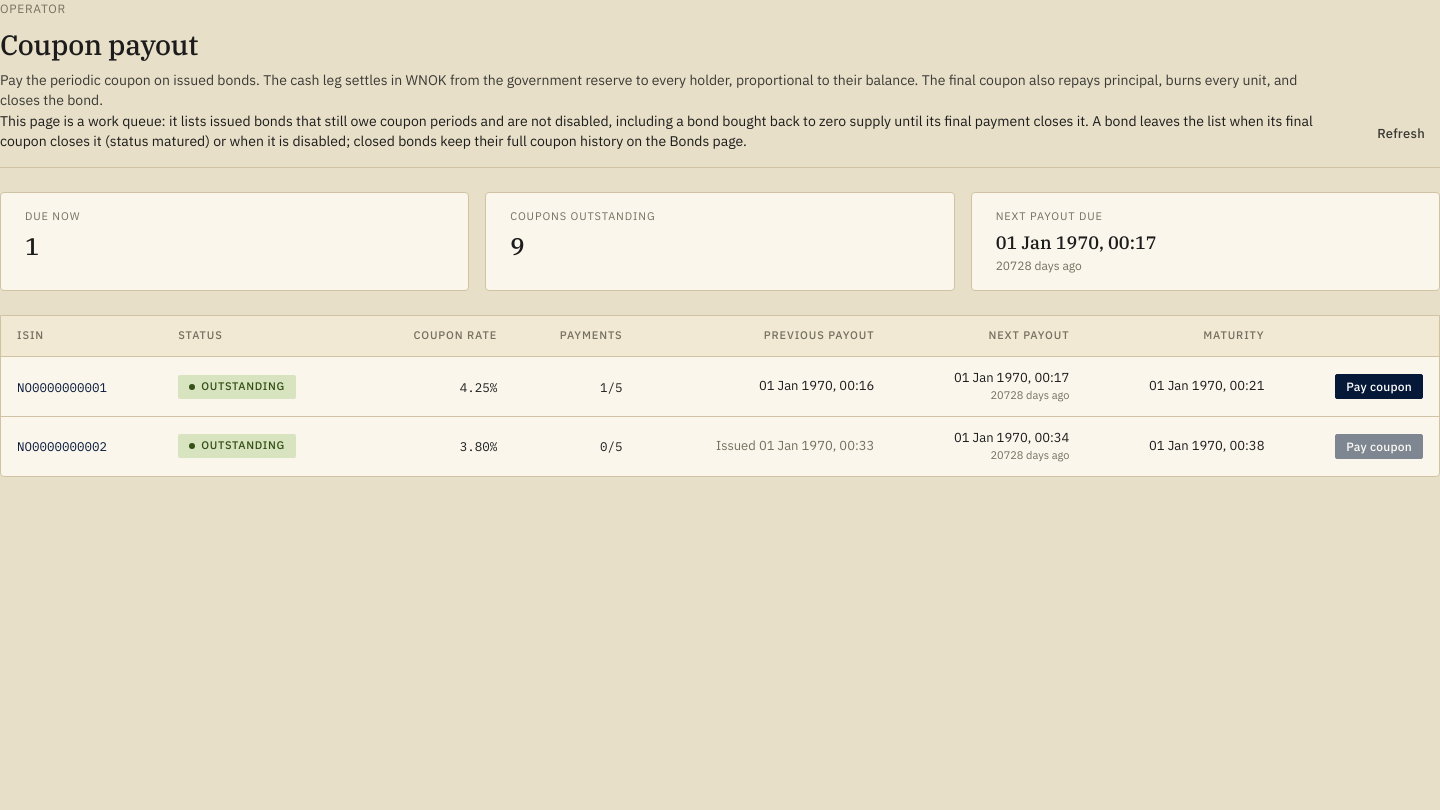
Scenario: CouponPayoutPage › keeps the modal open and surfaces the error when the payment fails
Expected: the link "NO0000000001" is shown, [17,379,107,395]
Click the button "Pay coupon" in the row of "NO0000000001" at {"x": 1379, "y": 387}, box [1335,374,1423,399]
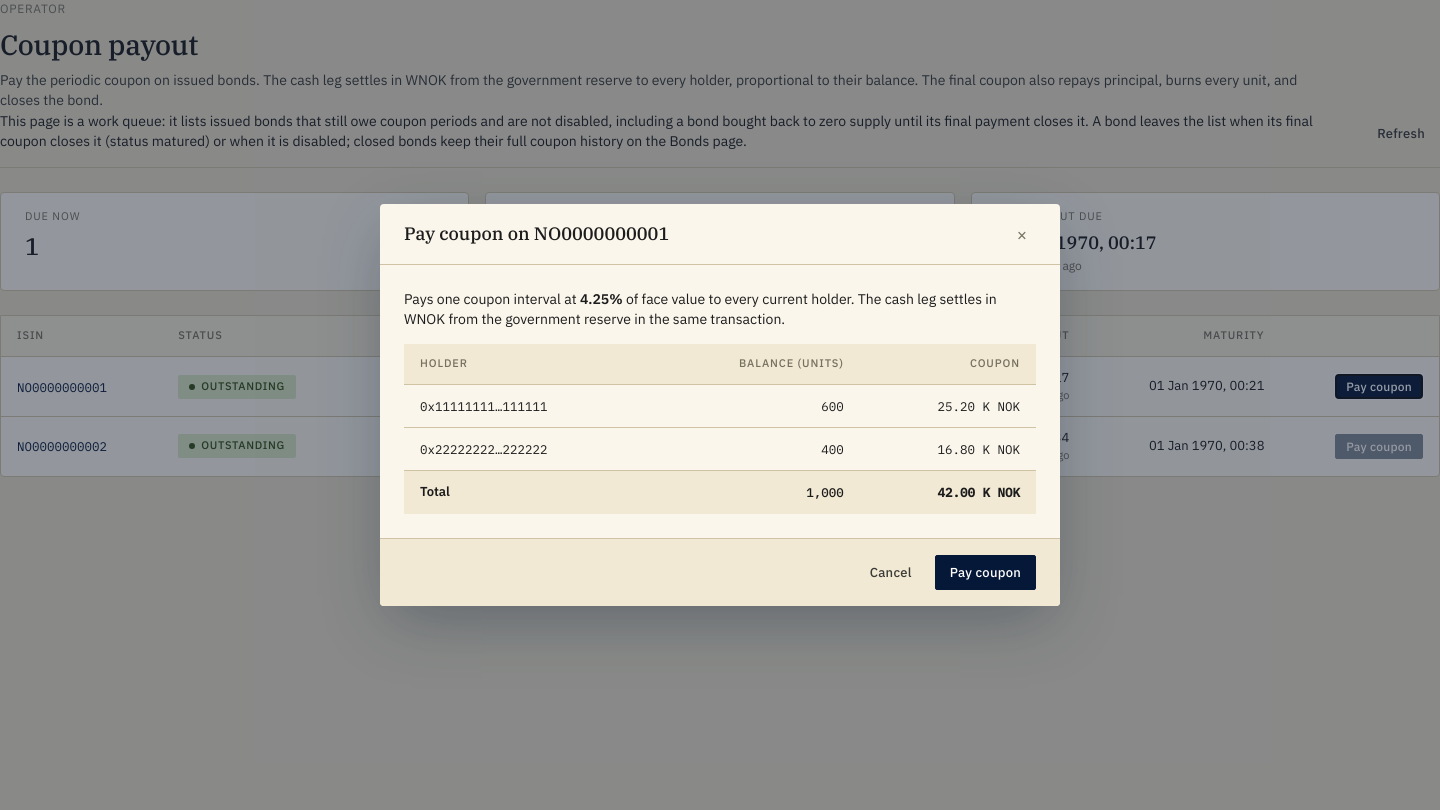
Click the button "Pay coupon" at {"x": 985, "y": 572}, box [935,555,1036,590]
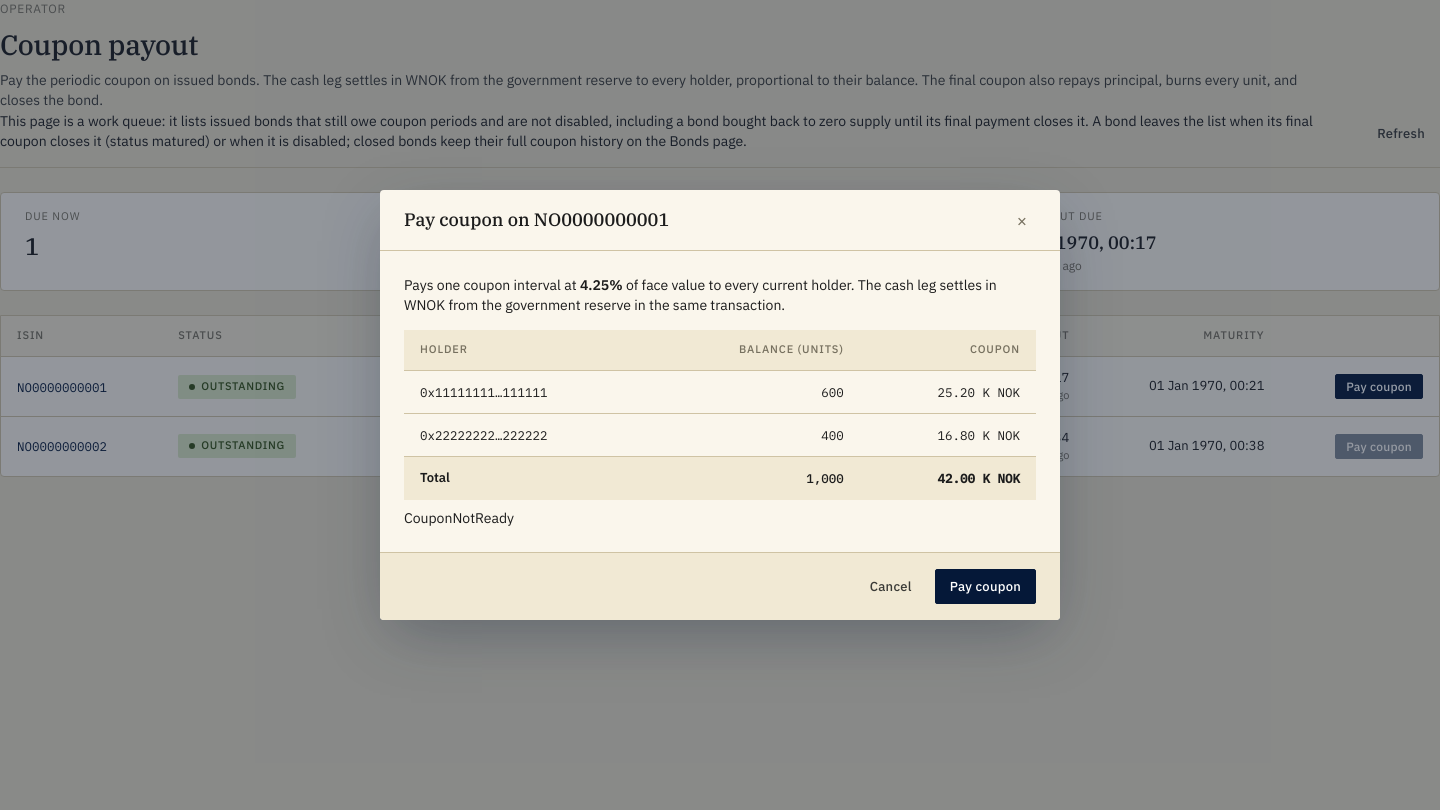
Now the heading "Pay coupon on NO0000000001" is shown, box [404,207,669,233]
Now the text "CouponNotReady" is shown, box [404,509,514,527]
